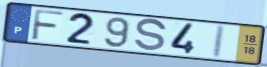2: (64, 11, 99, 49)
4: (169, 21, 199, 56)
9: (102, 16, 132, 49)
F: (29, 8, 66, 42)
I: (210, 23, 228, 60)
S: (132, 18, 169, 54)
